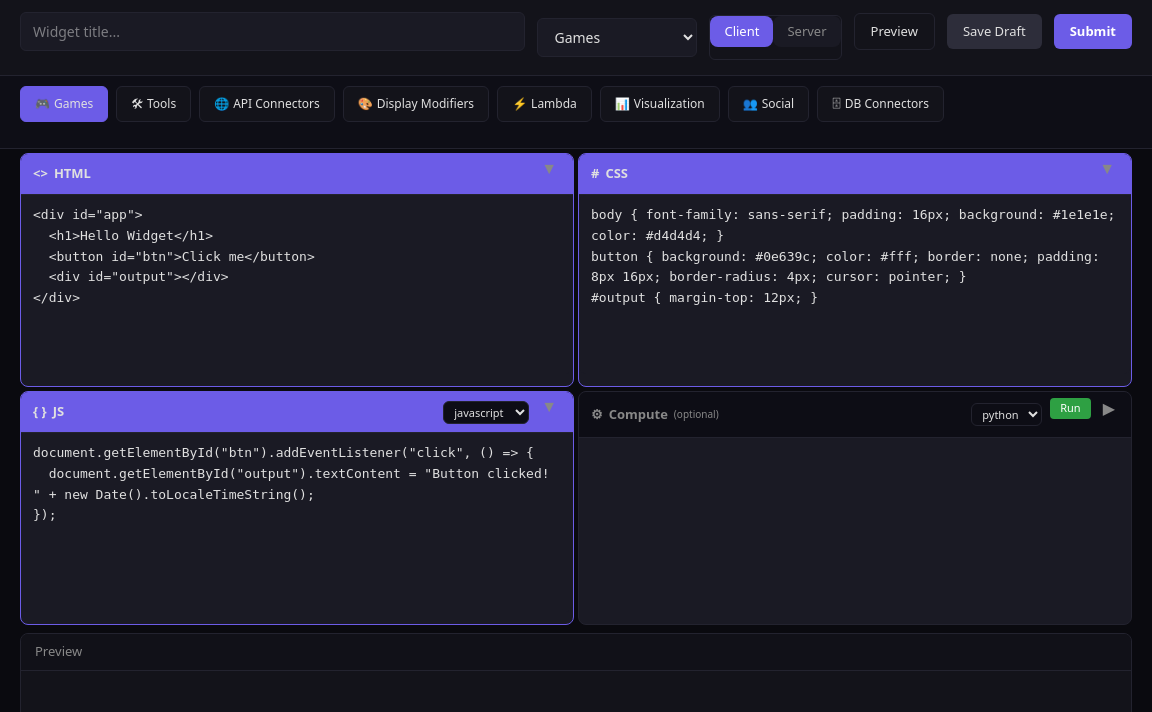
Test: WidgetCreatePage › compute panel shows the server's reason when execution is refused
Step 1. Click the button "▶" → (1109, 408), box x1=1099 y1=400 x2=1119 y2=416
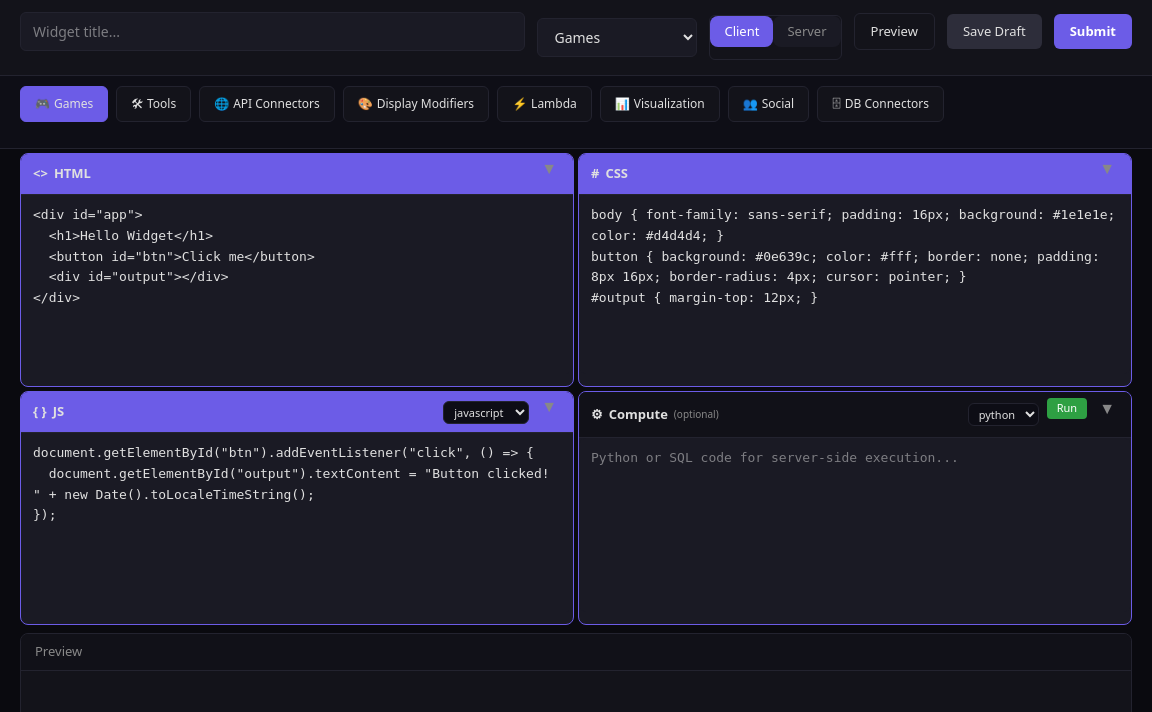
Step 2. Type "print(1)" into the text box with placeholder "Python or SQL code for server-side execution..." → (855, 525), box x1=579 y1=438 x2=1131 y2=612
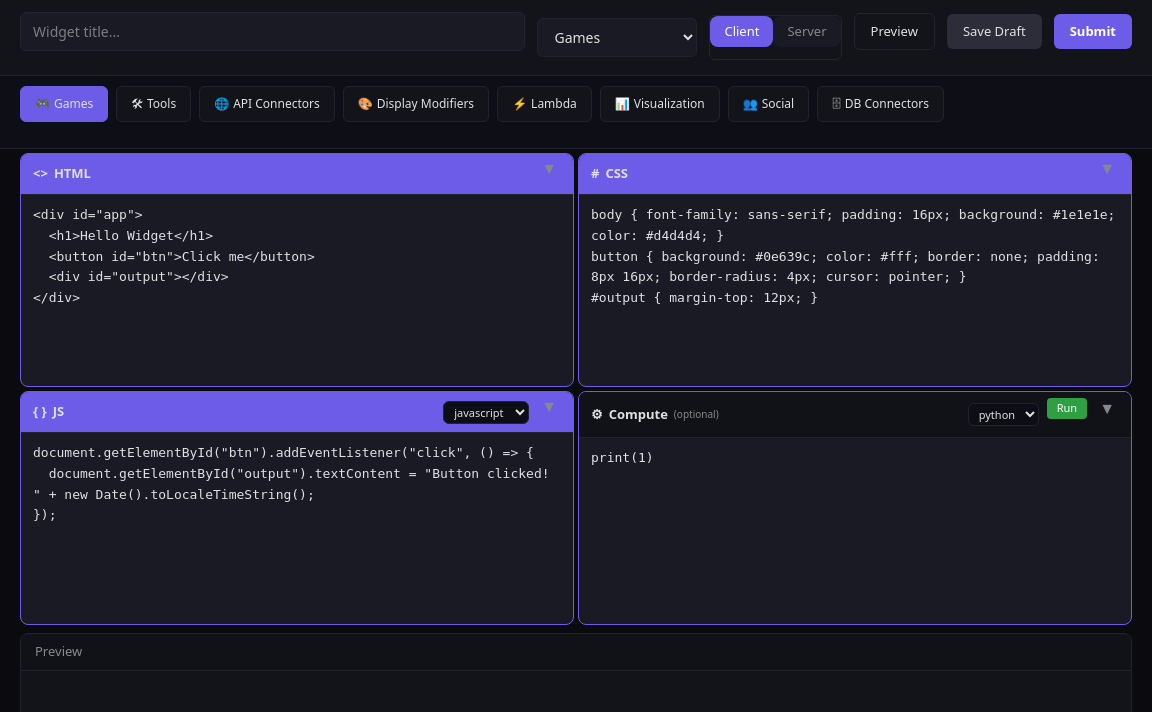
Step 3. Click the button "Run" → (1067, 408), box x1=1047 y1=398 x2=1087 y2=418
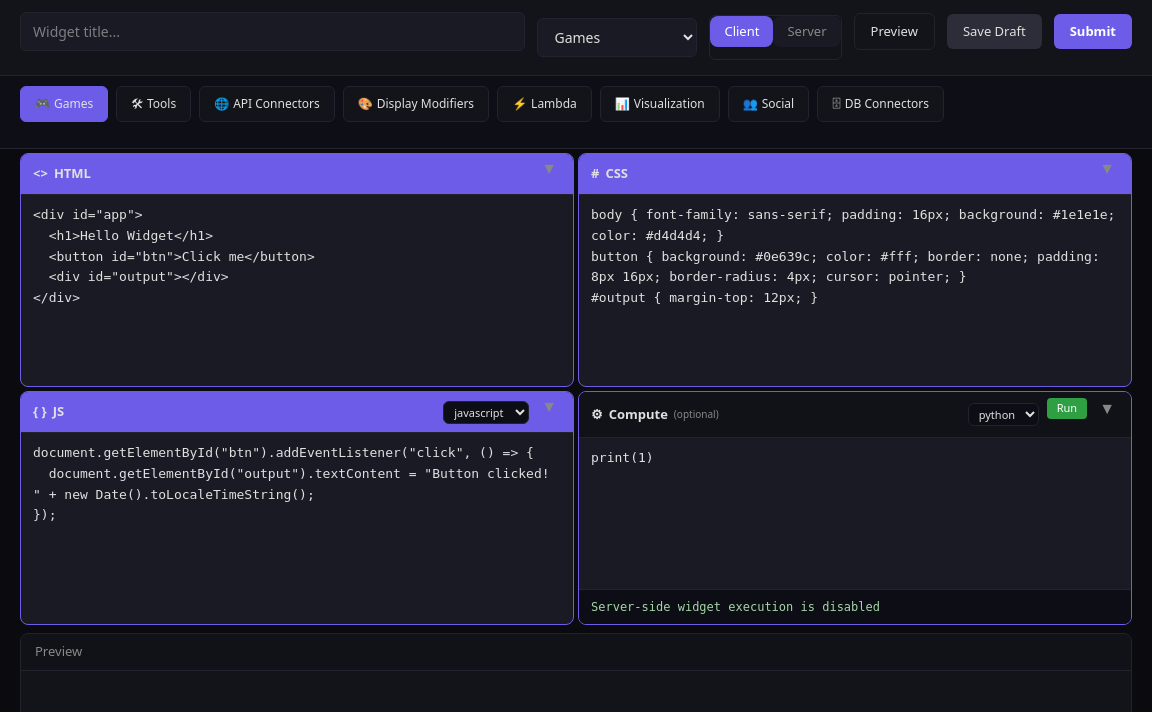
Expected: the text "Server-side widget execution is disabled" is shown, x1=579 y1=589 x2=1131 y2=624
